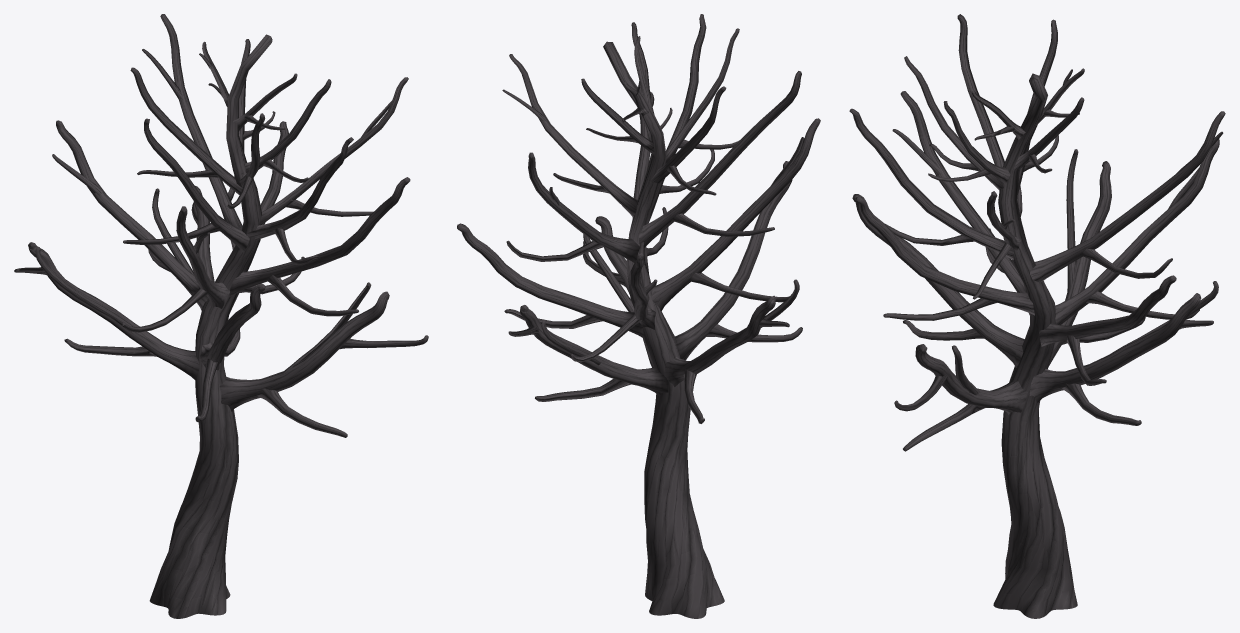
Rendered from DeadTree_1.gltf.
3 views of the same model, side by side, from view 1: azimuth 30°, elevation 25°; view 2: azimuth 150°, elevation 25°; view 3: azimuth 270°, elevation 25° (orthographic). The views are drawn at different scales.
Parts seen in each view (by area): view 1: DeadTree_1; view 2: DeadTree_1; view 3: DeadTree_1.
Part boxes in pixels (x1,y1,x2,y2): DeadTree_1: (14,14,428,618); DeadTree_1: (457,14,820,618); DeadTree_1: (849,14,1225,618).
Size of the model in its own units: 6.15 by 9.5 by 5.75.
Materials: 1 (1 with a texture image).
